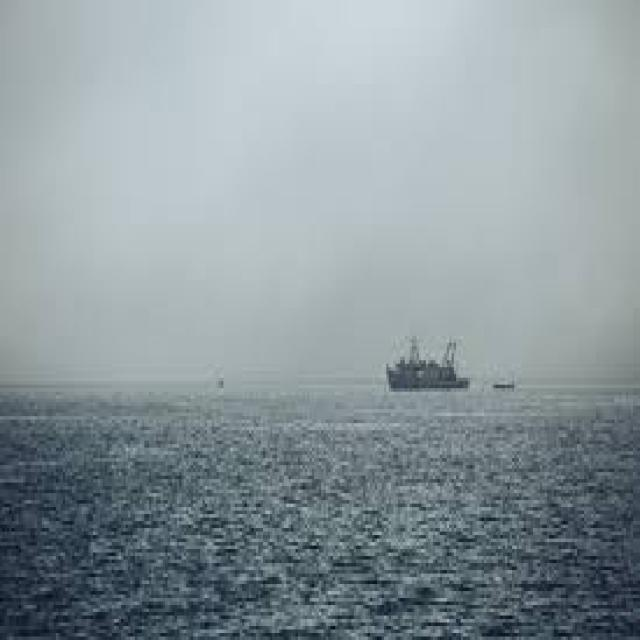fishing boat: (384, 324, 470, 390)
